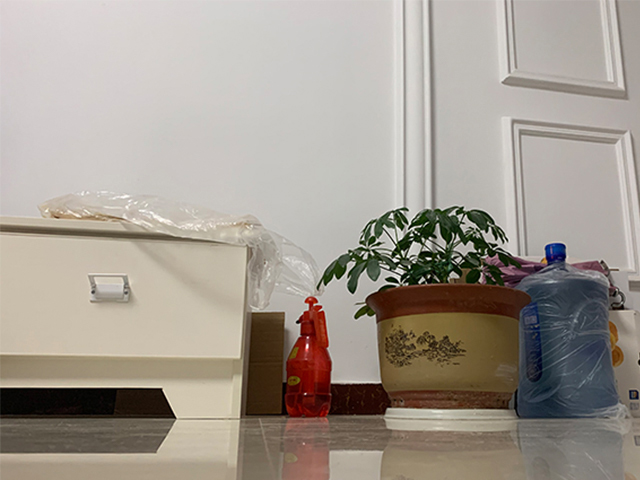cabinet: (1, 214, 255, 419)
